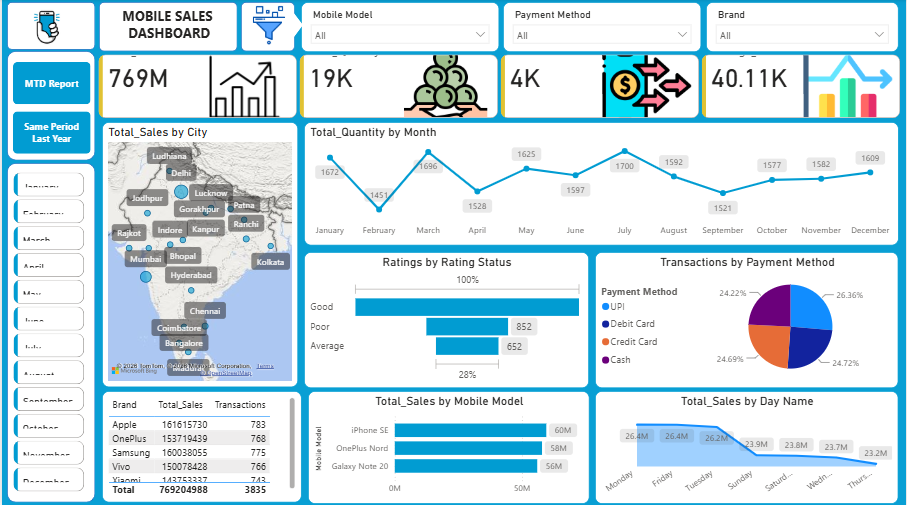

This screenshot's page, from the dashboard's own definition file:
{"tool":"powerbi","page":{"name":"Dashboard","canvas":[1280,720],"ordinal":0},"visuals":[{"type":"shape","box":[7.5,3.8,125,67.5],"z":0},{"type":"image","box":[23.8,3.8,78.8,71.2],"z":1000},{"type":"shape","box":[7.5,73.8,125,155],"z":2000},{"type":"shape","box":[7.5,232.5,125,481.2],"z":3000},{"type":"advancedSlicerVisual","fields":{"Values":["Custom_Calendar.Date.Variation.Date Hierarchy.Month"]},"box":[11.2,241.2,110,472.5],"z":4000},{"type":"cardVisual","fields":{"Data":["Sales_Data.Total_Sales","Sales_Data.Total_Quantity","Sales_Data.Transactions","Sales_Data.Average_Price"]},"box":[132.5,73.8,1147.5,100],"z":5000},{"type":"slicer","fields":{"Values":["Sales_Data.Mobile Model"]},"box":[423.8,3.8,281.2,71.2],"z":6000},{"type":"slicer","fields":{"Values":["Sales_Data.Payment Method"]},"box":[710,3.8,281.2,71.2],"z":7000},{"type":"slicer","fields":{"Values":["Sales_Data.Brand"]},"box":[997.5,3.8,272.5,71.2],"z":8000},{"type":"shape","box":[338.8,3.8,76.2,70],"z":9000},{"type":"image","box":[337.5,3.8,81.2,66.2],"z":10000},{"type":"shape","box":[397.5,17.5,30,40],"z":11000},{"type":"shape","box":[137.5,3.8,196.2,70],"z":12000},{"type":"textbox","box":[156.2,6.2,162.5,63.8],"z":13000},{"type":"map","fields":{"Category":["Sales_Data.City"],"Size":["Sales_Data.Total_Sales"]},"box":[141.2,175,277.5,376.2],"z":14000},{"type":"lineChart","fields":{"Y":["Sales_Data.Total_Quantity"],"Category":["Custom_Calendar.Date.Variation.Date Hierarchy.Month"]},"box":[427.5,175,842.5,175],"z":15000},{"type":"funnel","title":"Ratings by Rating Status","fields":{"Y":["CountNonNull(Sales_Data.Customer Ratings)"],"Category":["Sales_Data.Rating Status"]},"box":[427.5,358.8,403.8,192.5],"z":16000},{"type":"pieChart","fields":{"Y":["Sales_Data.Transactions"],"Category":["Sales_Data.Payment Method"]},"box":[840,358.8,430,192.5],"z":17000},{"type":"clusteredBarChart","fields":{"Y":["Sales_Data.Total_Sales"],"Category":["Sales_Data.Mobile Model"]},"box":[433.8,556.2,398.8,160],"z":18000},{"type":"areaChart","fields":{"Y":["Sales_Data.Total_Sales"],"Category":["Custom_Calendar.Day Name"]},"box":[840,556.2,430,160],"z":19000},{"type":"tableEx","fields":{"Values":["Sales_Data.Brand","Sales_Data.Total_Sales","Sales_Data.Transactions"]},"box":[141.2,556.2,282.5,157.5],"z":20000},{"type":"pageNavigator","box":[15,88.8,110,130],"z":21000}]}

Visuals, with their boxes in screenshot pixels (x1, y1, x2, y2), scaled from the page's 1280x720 canvas onto the 907x505 screenshot:
shape: detection(5, 3, 94, 50)
image: detection(17, 3, 73, 53)
shape: detection(5, 52, 94, 160)
shape: detection(5, 163, 94, 501)
advancedSlicerVisual - Custom_Calendar.Date.Variation.Date Hierarchy.Month: detection(8, 169, 86, 501)
cardVisual - Sales_Data.Total_Sales x Sales_Data.Total_Quantity: detection(94, 52, 906, 122)
slicer - Sales_Data.Mobile Model: detection(300, 3, 500, 53)
slicer - Sales_Data.Payment Method: detection(503, 3, 702, 53)
slicer - Sales_Data.Brand: detection(707, 3, 900, 53)
shape: detection(240, 3, 294, 52)
image: detection(239, 3, 297, 49)
shape: detection(282, 12, 303, 40)
shape: detection(97, 3, 236, 52)
textbox: detection(111, 4, 226, 49)
map - Sales_Data.City x Sales_Data.Total_Sales: detection(100, 123, 297, 387)
lineChart - Sales_Data.Total_Quantity x Custom_Calendar.Date.Variation.Date Hierarchy.Month: detection(303, 123, 900, 245)
"Ratings by Rating Status" funnel: detection(303, 252, 589, 387)
pieChart - Sales_Data.Transactions x Sales_Data.Payment Method: detection(595, 252, 900, 387)
clusteredBarChart - Sales_Data.Total_Sales x Sales_Data.Mobile Model: detection(307, 390, 590, 502)
areaChart - Sales_Data.Total_Sales x Custom_Calendar.Day Name: detection(595, 390, 900, 502)
tableEx - Sales_Data.Brand x Sales_Data.Total_Sales: detection(100, 390, 300, 501)
pageNavigator: detection(11, 62, 89, 153)
